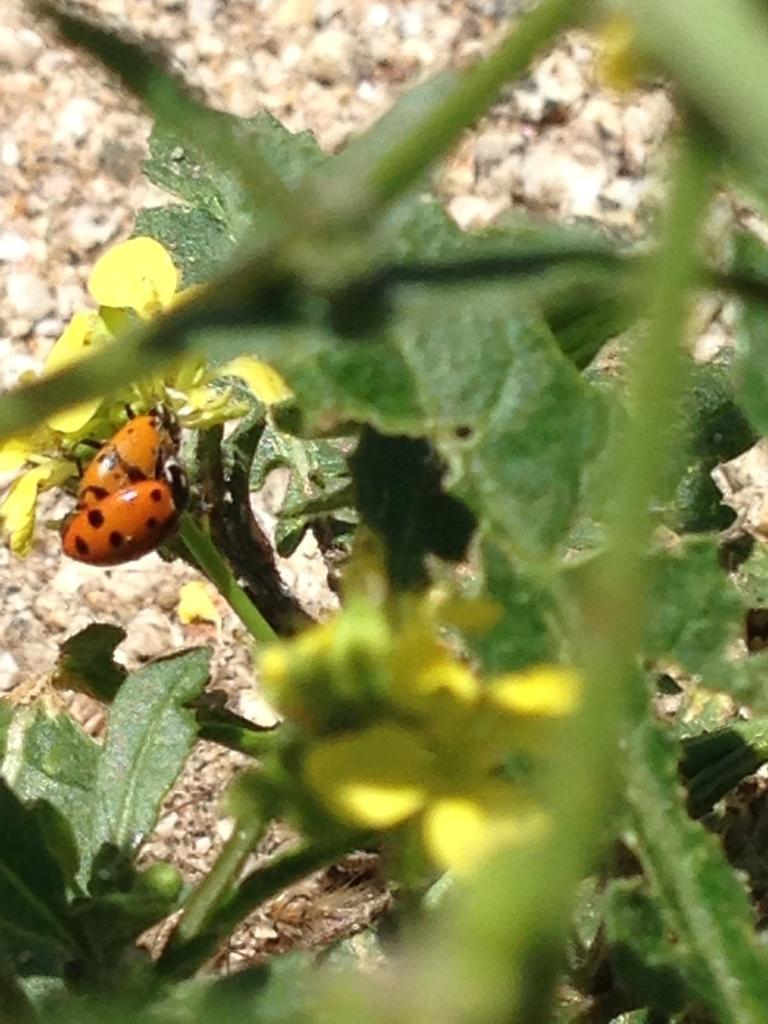ladybug: (59, 449, 192, 569), (63, 398, 187, 510)
